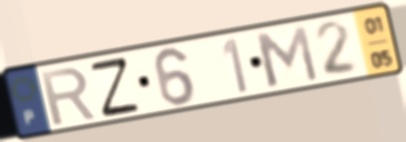1: (220, 35, 250, 96)
2: (313, 19, 362, 79)
6: (151, 44, 197, 109)
M: (250, 23, 322, 90)
R: (38, 64, 99, 128)
Z: (86, 54, 143, 120)
